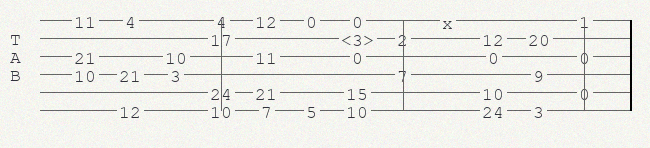0: (306, 13, 321, 28), (352, 13, 367, 28), (352, 49, 367, 64), (488, 49, 503, 64), (579, 49, 594, 64), (579, 85, 594, 100)
1: (579, 13, 594, 28)
10: (74, 67, 100, 82), (165, 49, 191, 64), (210, 103, 236, 118), (346, 103, 372, 118), (482, 85, 508, 100)
11: (74, 13, 100, 28), (255, 49, 281, 64)
12: (119, 103, 145, 118), (255, 13, 281, 28), (482, 31, 508, 46)
15: (346, 85, 372, 100)
17: (210, 31, 236, 46)
2: (397, 31, 412, 46)
20: (528, 31, 554, 46)
21: (74, 49, 100, 64), (119, 67, 145, 82), (255, 85, 281, 100)
24: (210, 85, 236, 100), (482, 103, 508, 118)
3: (170, 67, 185, 82), (533, 103, 548, 118)
4: (125, 13, 140, 28), (216, 13, 231, 28)
5: (306, 103, 321, 118)
7: (261, 103, 276, 118), (397, 67, 412, 82)
9: (533, 67, 548, 82)
harmonic: (341, 31, 378, 46)
x: (442, 14, 457, 26)
